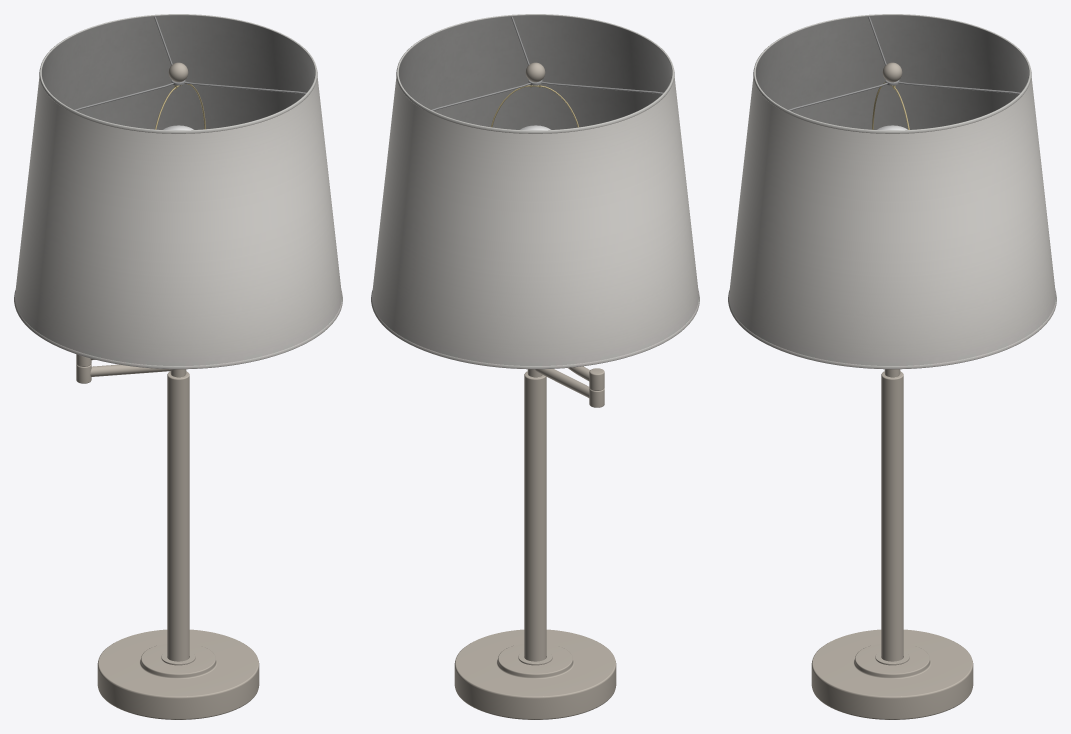
Rendered from lamp_B07DBHBMBF.glb.
3 views of the same model, side by side, from view 1: azimuth 30°, elevation 25°; view 2: azimuth 150°, elevation 25°; view 3: azimuth 270°, elevation 25° (orthographic).
Parts seen in each view (by area): view 1: RootNode; view 2: RootNode; view 3: RootNode.
Boxes of the visible parts, x1,y1,x2,y2 form: RootNode: (14, 14, 342, 719); RootNode: (371, 14, 699, 719); RootNode: (728, 14, 1056, 719).
Size of the model in its own units: 0.3329 by 0.6957 by 0.3329.
Materials: 1 (1 with a texture image).
